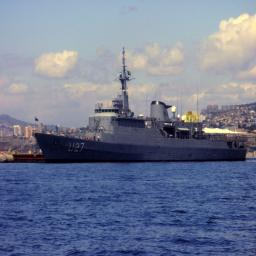Fragata: (33, 49, 249, 167)
